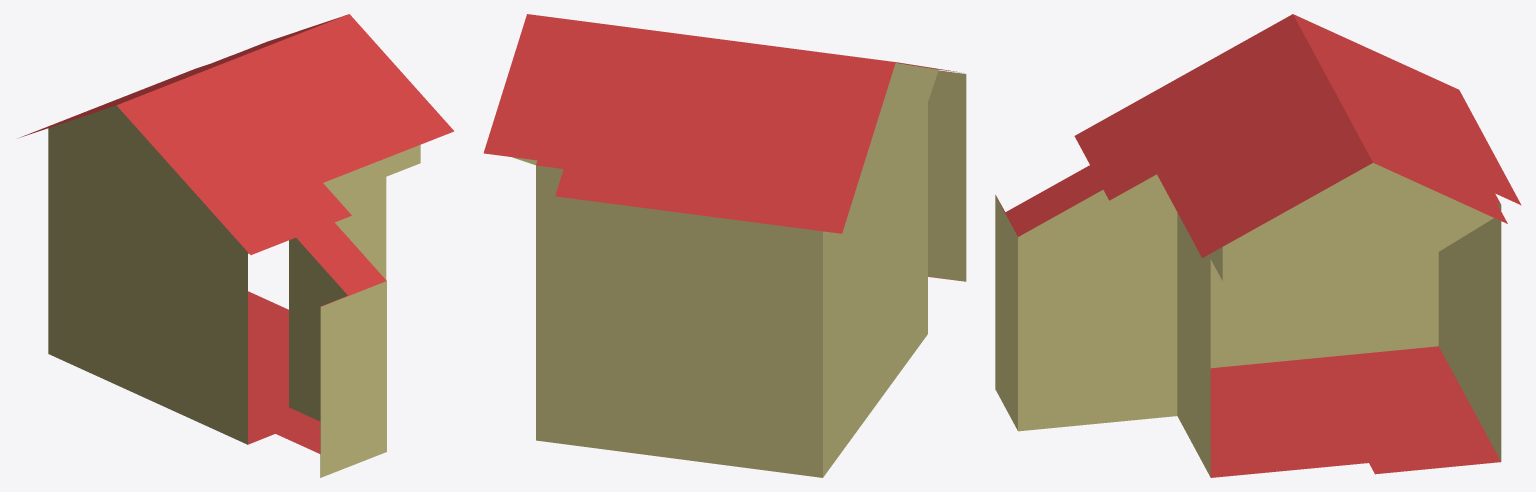
3 views of the same model, side by side, from view 1: azimuth 30°, elevation 25°; view 2: azimuth 150°, elevation 25°; view 3: azimuth 270°, elevation 25° (orthographic). The views are drawn at different scales.
Size of the model in its own units: 11.84 by 14.53 by 10.18.
